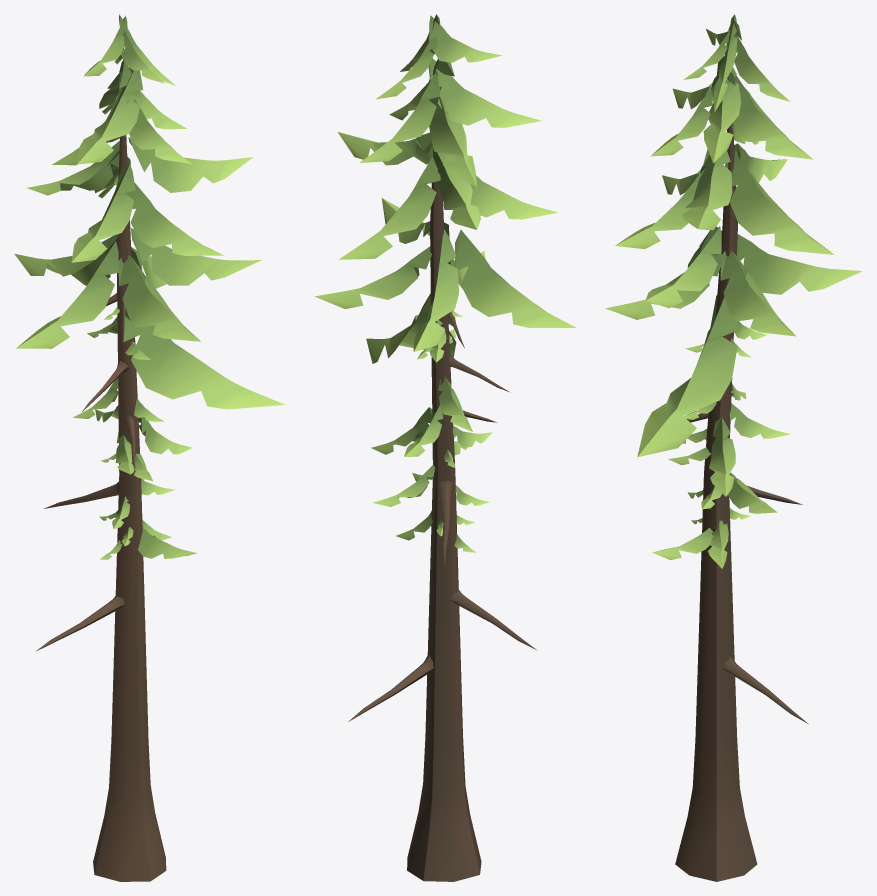
Rendered from Tree02.gltf.
3 views of the same model, side by side, from view 1: azimuth 30°, elevation 25°; view 2: azimuth 150°, elevation 25°; view 3: azimuth 270°, elevation 25° (orthographic).
Parts seen in each view (by area): view 1: default3_Material_0; view 2: default3_Material_0; view 3: default3_Material_0.
Part boxes in pixels (box(x1,y1,x2,y2)): default3_Material_0: box(14, 14, 285, 881); default3_Material_0: box(314, 14, 576, 881); default3_Material_0: box(605, 14, 862, 881).
Bounding box in the file's own units: 1.91 × 6.46 × 1.78.
Materials: 1 (1 with a texture image).
